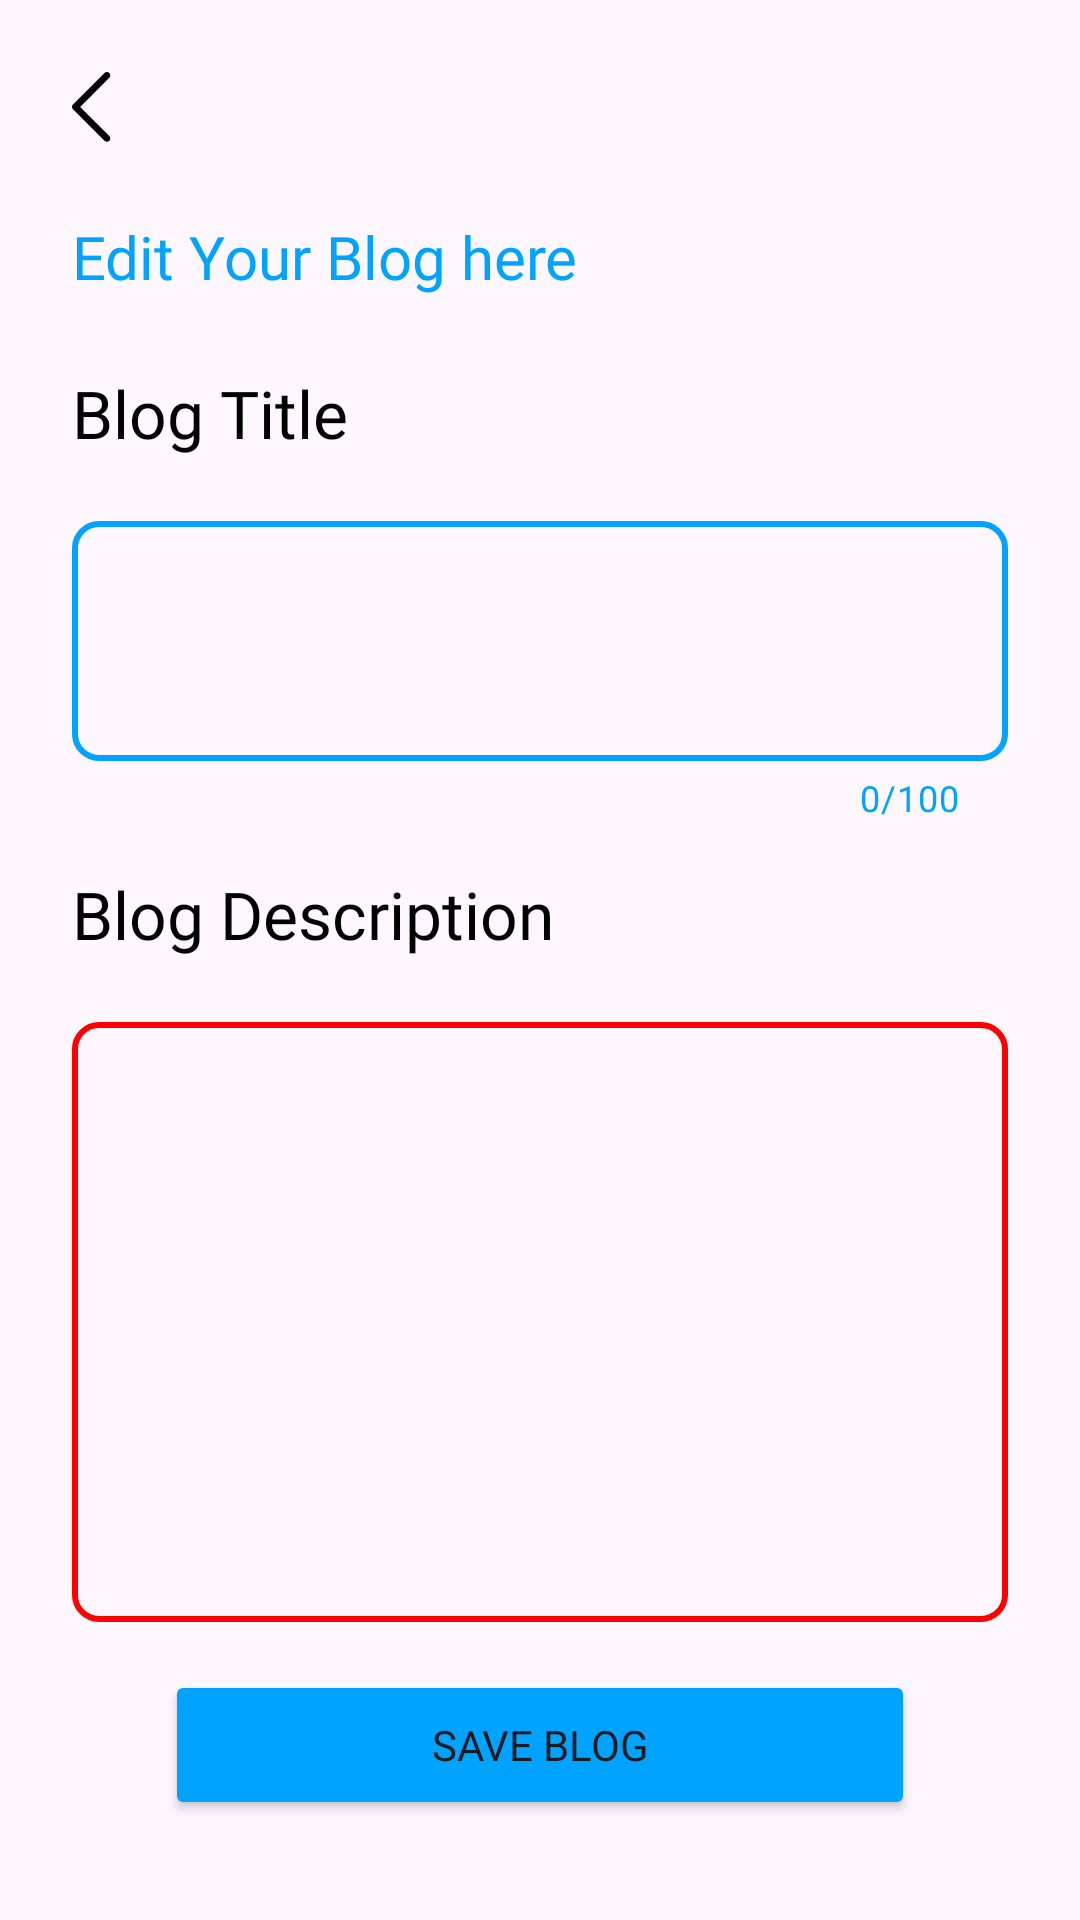

Named icons in this screenshot (1080*1920) and their centers, (x,y):
back: (91,107)
